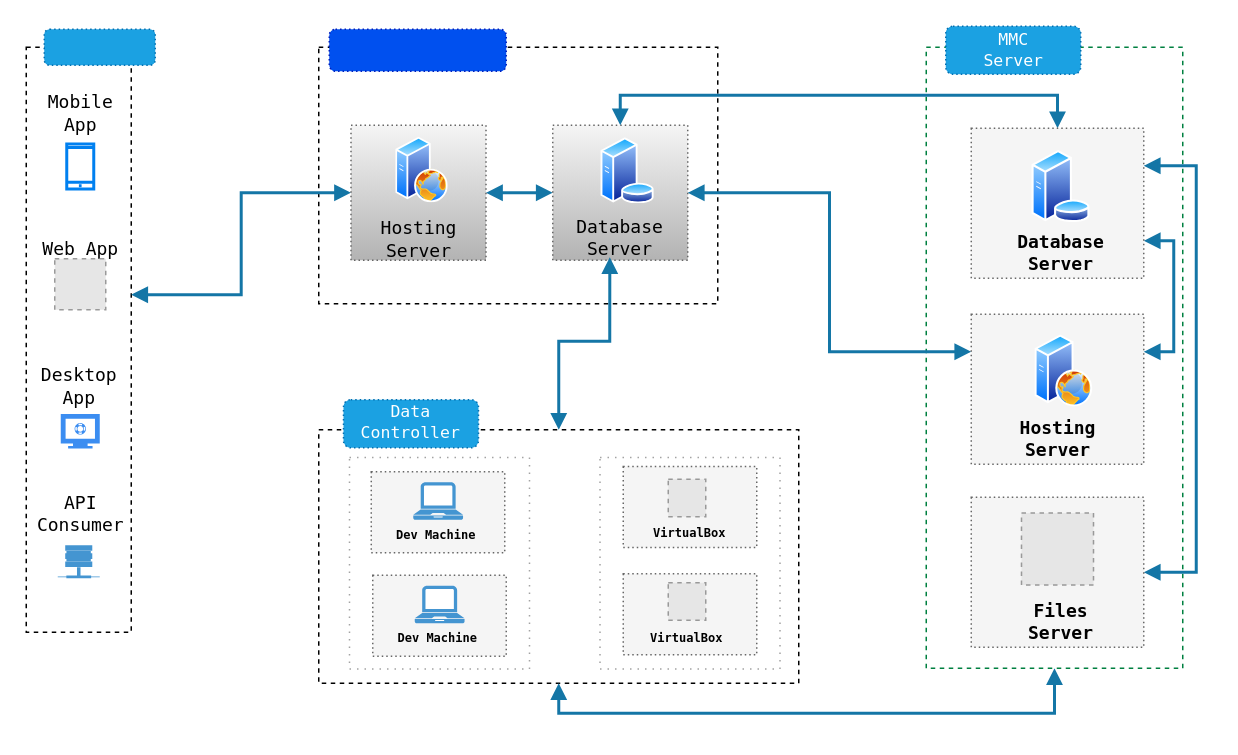
Some shapes in this 1238 by 755 pixel diagram are drawn without their labels. Grey dashed boxes stand in for pictures. The centre of each missing label's shape, as x and y in pixels:
Clients: point 99,46
Public Cloud Server: point 417,49
